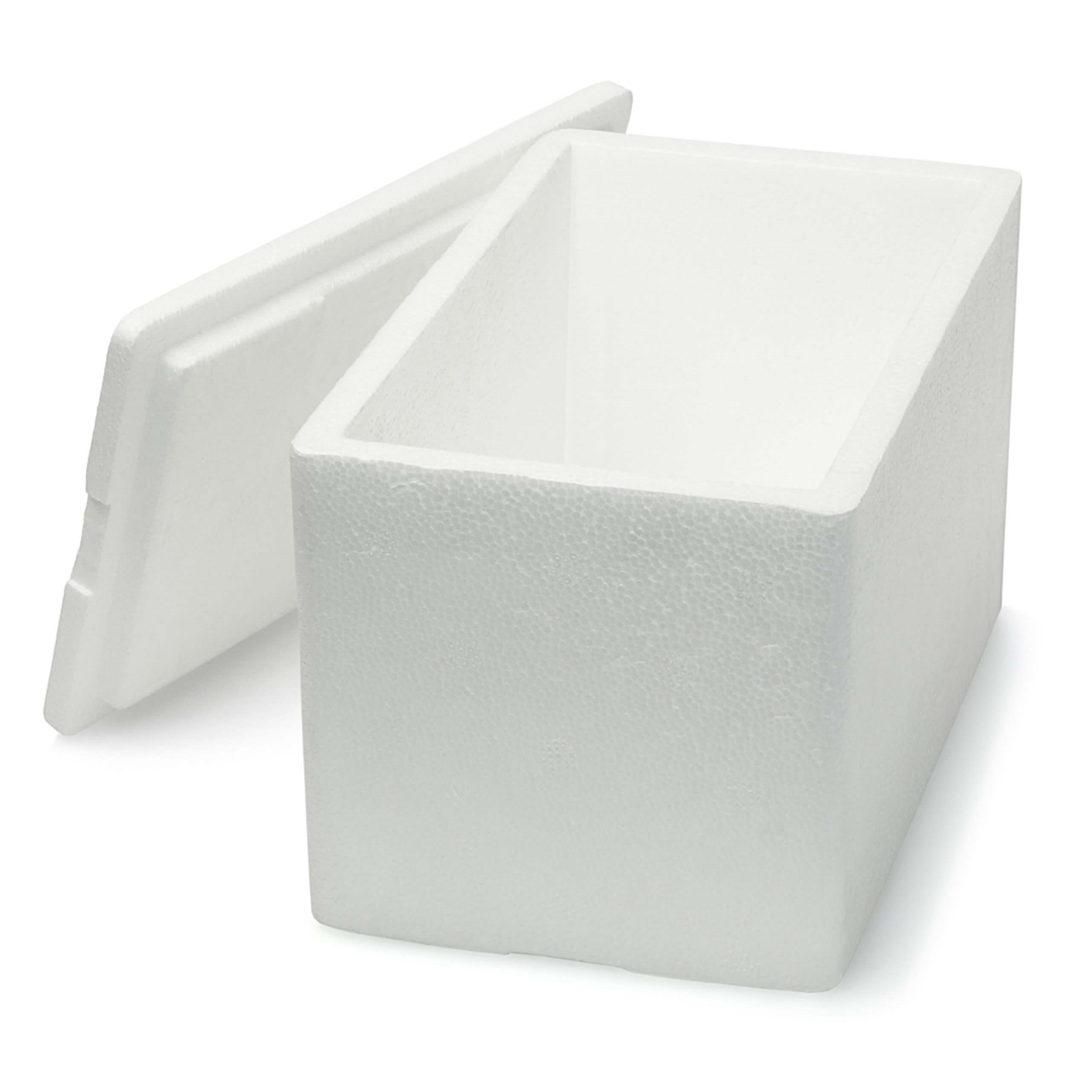Boxes: (45, 87, 1020, 989)
